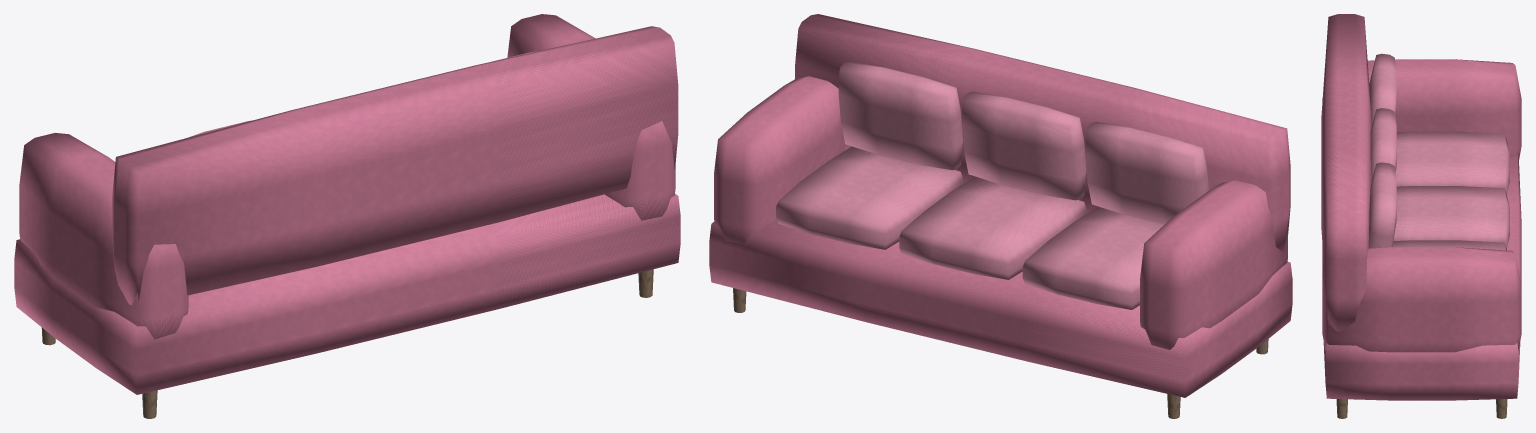
Rendered from sofa_pink.glb.
The picture shows the model from 3 angles, left to right: view 1: azimuth 30°, elevation 25°; view 2: azimuth 150°, elevation 25°; view 3: azimuth 270°, elevation 25°; orthographic projection. The views are drawn at different scales.
Visible parts, largest first — view 1: sofa_pink_body; view 2: sofa_pink_body; view 3: sofa_pink_body.
Boxes of the visible parts, <box> form: sofa_pink_body: <box>14,14,680,418</box>; sofa_pink_body: <box>709,14,1292,418</box>; sofa_pink_body: <box>1321,14,1521,418</box>.
Bounding box in the file's own units: 2.4 × 1.09 × 0.955.
Materials: 3 (3 with a texture image).
